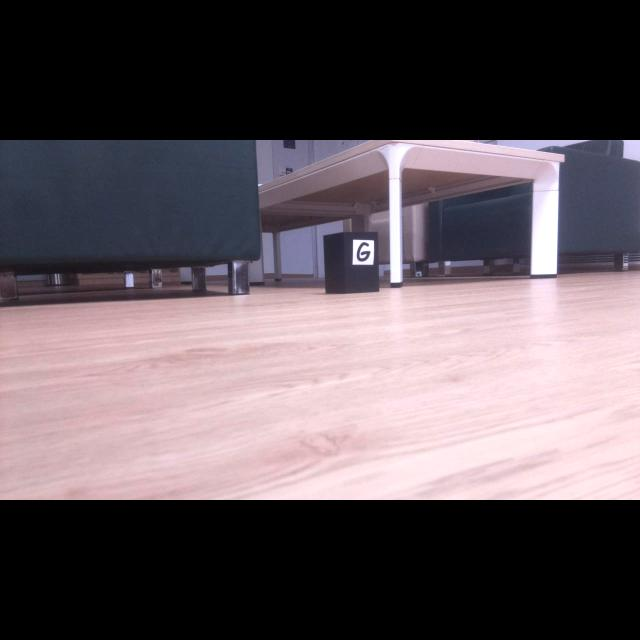G: (356, 242, 371, 262)
